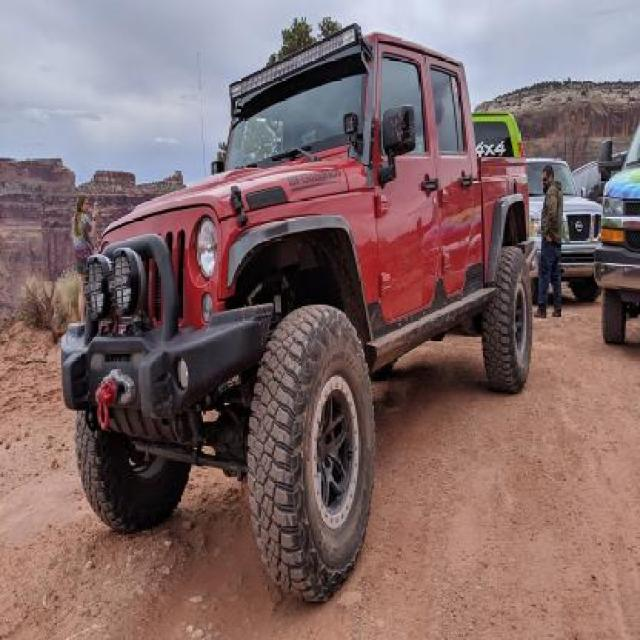Jeep: (60, 33, 534, 607)
